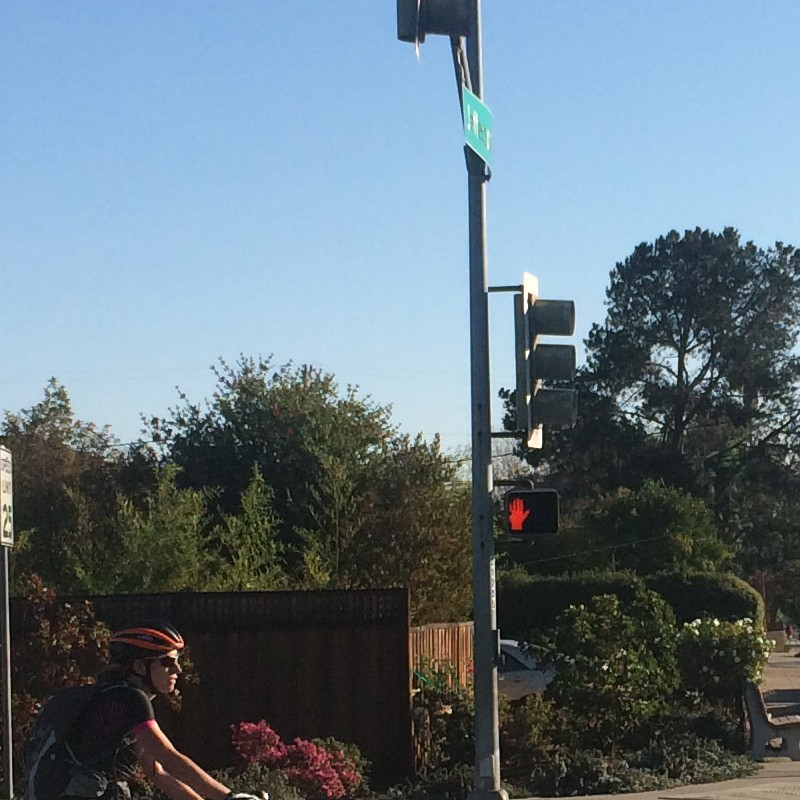stop: (495, 486, 565, 543)
